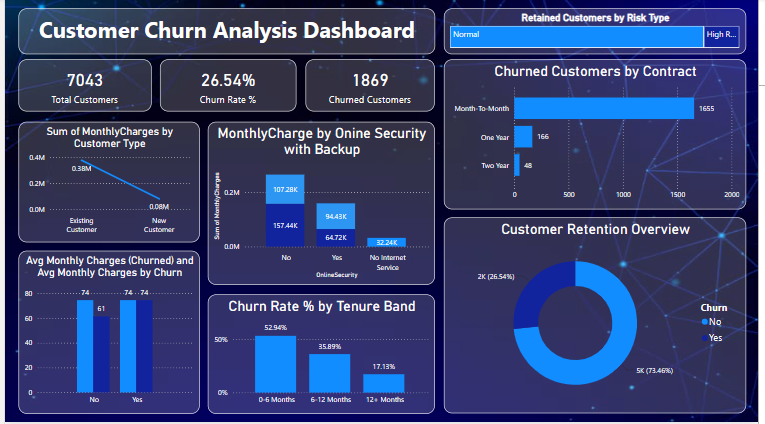

The page's visual inventory and layout, read from the dashboard file:
{"tool":"powerbi","page":{"name":"Page 1","canvas":[1280,720],"ordinal":0},"visuals":[{"type":"textbox","box":[22.6,18.5,708.2,78],"z":0},{"type":"treemap","fields":{"Values":["Calculated Measure.Retained Customers"],"Group":["telco_churn_unclean.Risk Type"]},"box":[745.1,18.5,513.2,78],"z":1000},{"type":"card","fields":{"Values":["Calculated Measure.Total Customers"]},"box":[22.6,104.7,225.8,88.3],"z":2000},{"type":"card","fields":{"Values":["Calculated Measure.Churn Rate %"]},"box":[262.7,104.7,231.9,88.3],"z":3000},{"type":"card","fields":{"Values":["Calculated Measure.Churned Customers"]},"box":[511.1,104.7,219.6,88.3],"z":4000},{"type":"donutChart","title":"Customer Retention Overview","fields":{"Y":["Calculated Measure.Total Customers"],"Category":["telco_churn_unclean.Churn"]},"box":[745.1,373.6,513.2,332.5],"z":5000},{"type":"clusteredBarChart","fields":{"Category":["telco_churn_unclean.Contract"],"Y":["Calculated Measure.Churned Customers"]},"box":[745.1,104.7,513.2,254.5],"z":6000},{"type":"columnChart","title":"MonthlyCharge by Onine Security with Backup ","fields":{"Category":["telco_churn_unclean.OnlineSecurity"],"Y":["Sum(telco_churn_unclean.MonthlyCharges)"],"Series":["telco_churn_unclean.OnlineBackup"]},"box":[344.8,209.4,385.9,277.1],"z":7000},{"type":"columnChart","fields":{"Y":["Calculated Measure.Churn Rate %"],"Category":["telco_churn_unclean.Tenure Band"]},"box":[344.8,502.9,385.9,203.2],"z":8000},{"type":"clusteredColumnChart","fields":{"Y":["Calculated Measure.Avg Monthly Charges (Churned)","Calculated Measure.Avg Monthly Charges"],"Category":["telco_churn_unclean.Churn"]},"box":[22.6,429,307.9,277.1],"z":9000},{"type":"lineChart","fields":{"Category":["telco_churn_unclean.Customer Type"],"Y":["Sum(telco_churn_unclean.MonthlyCharges)"]},"box":[22.6,209.4,307.9,205.3],"z":10000}]}

Visuals, with their boxes in screenshot pixels (x1, y1, x2, y2), scaled from the page's 1280x720 canvas onto the 765x424 screenshot:
textbox: bbox=[14, 11, 437, 57]
treemap - Calculated Measure.Retained Customers x telco_churn_unclean.Risk Type: bbox=[445, 11, 752, 57]
card - Calculated Measure.Total Customers: bbox=[14, 62, 148, 114]
card - Calculated Measure.Churn Rate %: bbox=[157, 62, 296, 114]
card - Calculated Measure.Churned Customers: bbox=[305, 62, 437, 114]
"Customer Retention Overview" donutChart: bbox=[445, 220, 752, 416]
clusteredBarChart - telco_churn_unclean.Contract x Calculated Measure.Churned Customers: bbox=[445, 62, 752, 212]
"MonthlyCharge by Onine Security with Backup " columnChart: bbox=[206, 123, 437, 286]
columnChart - Calculated Measure.Churn Rate % x telco_churn_unclean.Tenure Band: bbox=[206, 296, 437, 416]
clusteredColumnChart - Calculated Measure.Avg Monthly Charges (Churned) x Calculated Measure.Avg Monthly Charges: bbox=[14, 253, 198, 416]
lineChart - telco_churn_unclean.Customer Type x Sum(telco_churn_unclean.MonthlyCharges): bbox=[14, 123, 198, 244]
